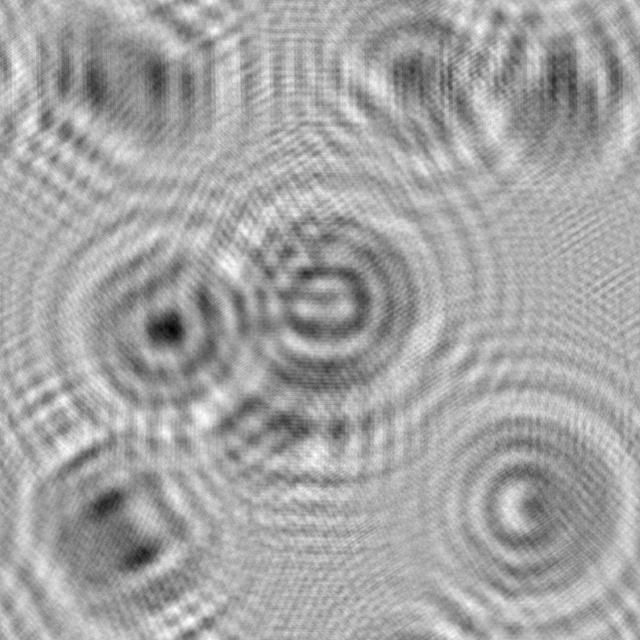C: (394, 367, 640, 640)
E: (0, 397, 244, 640)
J: (295, 0, 501, 184)
L: (184, 349, 410, 519)
P: (46, 200, 279, 442)
Q: (203, 159, 447, 424)
V: (467, 0, 640, 199)
Z: (0, 0, 247, 190)
